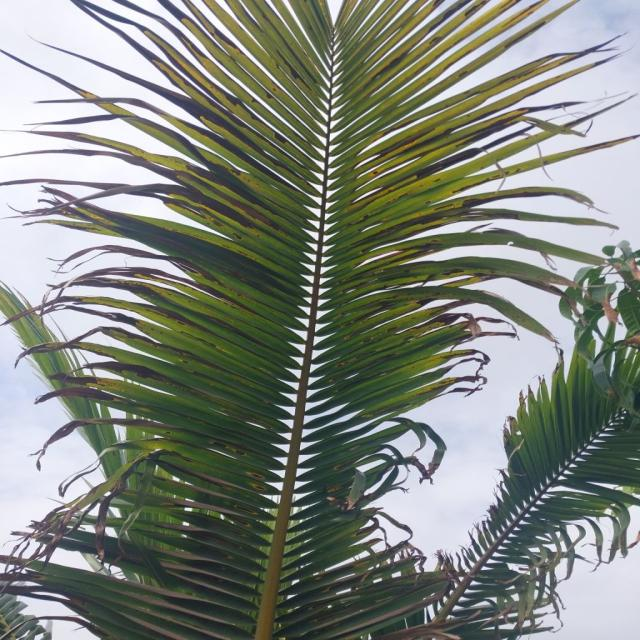leaf rot: (52, 0, 526, 555)
